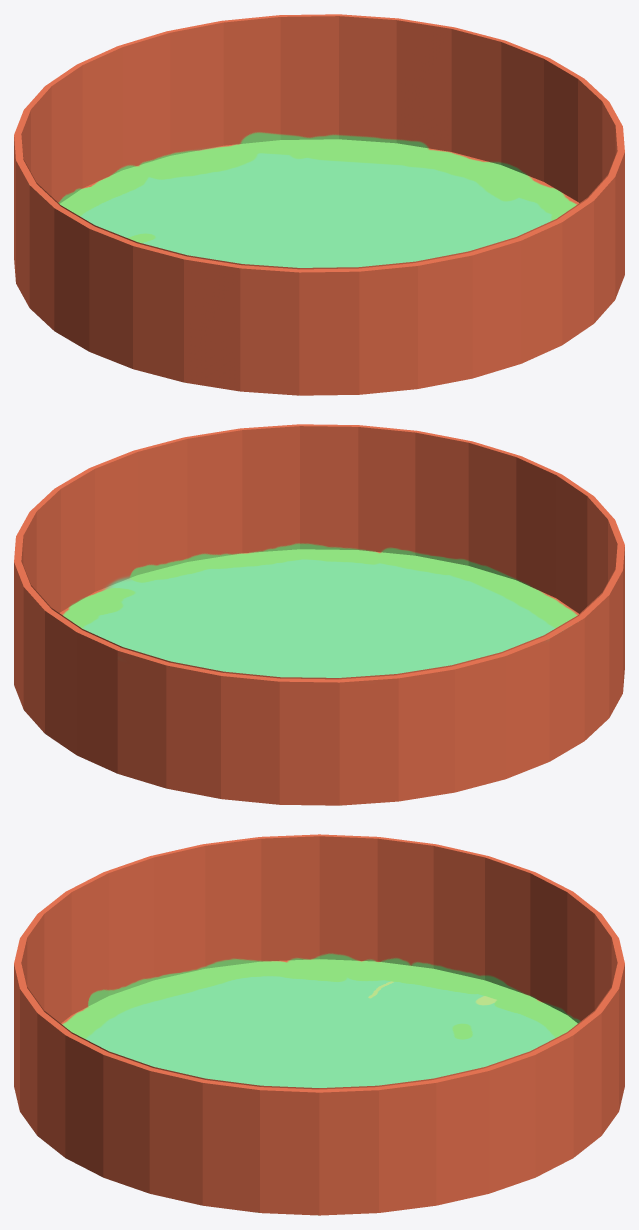
The model's file is island.glb.
The picture shows the model from 3 angles, top to bottom: view 1: azimuth 30°, elevation 25°; view 2: azimuth 150°, elevation 25°; view 3: azimuth 270°, elevation 25°; orthographic projection.
Visible parts, largest first — view 1: Circle; view 2: Circle; view 3: Circle.
Boxes of the visible parts, x1,y1,x2,y2 form: Circle: (14,14,624,395); Circle: (14,424,624,805); Circle: (14,834,624,1215).
Bounding box in the file's own units: 410 × 92 × 410.
Materials: 1 (1 with a texture image).
